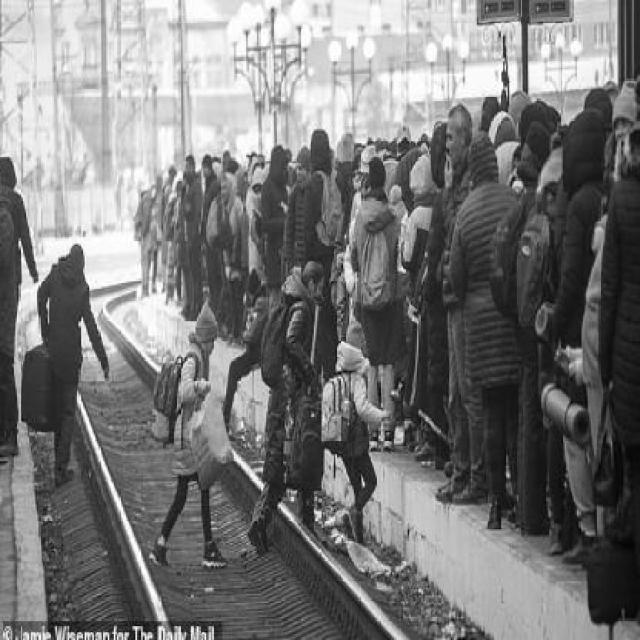Manusia: (158, 305, 228, 572), (262, 258, 322, 547), (36, 240, 98, 491), (323, 319, 386, 547)
